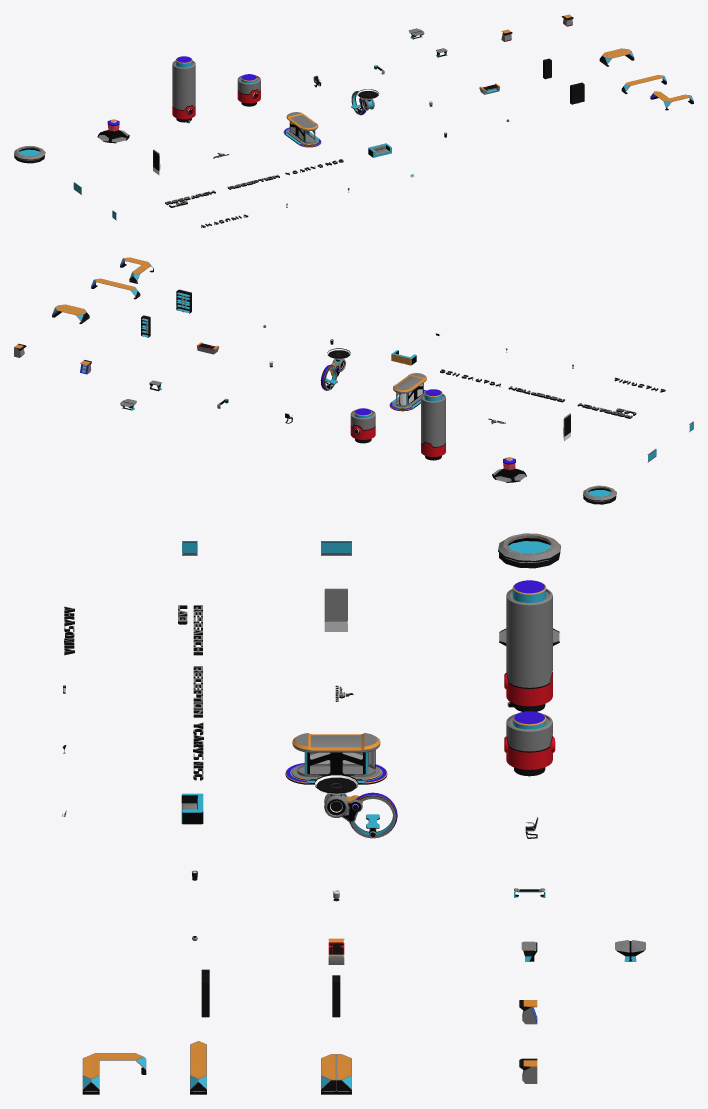
The model's file is CityDeco00.FBX.
The picture shows the model from 3 angles, top to bottom: view 1: azimuth 30°, elevation 25°; view 2: azimuth 150°, elevation 25°; view 3: azimuth 270°, elevation 25°; orthographic projection. The views are drawn at different scales.
Parts seen in each view (by area): view 1: Cylinder027, Cylinder029, Cylinder028, Box008, Cylinder026; view 2: Cylinder027, Cylinder029, Cylinder028, Box008, Cylinder026; view 3: Cylinder027, Cylinder029, Cylinder028, Cylinder026, Box022, Box025, Box018, Box024.
Boxes of the visible parts, x1,y1,x2,y2 form: Cylinder027: (172,56,195,122); Cylinder029: (283,112,321,147); Cylinder028: (237,74,260,106); Box008: (97,119,129,143); Cylinder026: (14,146,45,163); Cylinder027: (421,389,445,460); Cylinder029: (389,373,426,411); Cylinder028: (350,408,375,443); Box008: (492,457,526,482); Cylinder026: (583,485,616,504); Cylinder027: (504,580,552,711); Cylinder029: (285,733,387,784); Cylinder028: (504,711,555,776); Cylinder026: (498,533,560,568); Box022: (321,1054,351,1094); Box025: (82,1053,146,1094); Box018: (324,588,347,631); Box024: (190,1041,206,1094).
Size of the model in its own units: 83.86 by 8.51 by 37.44.
